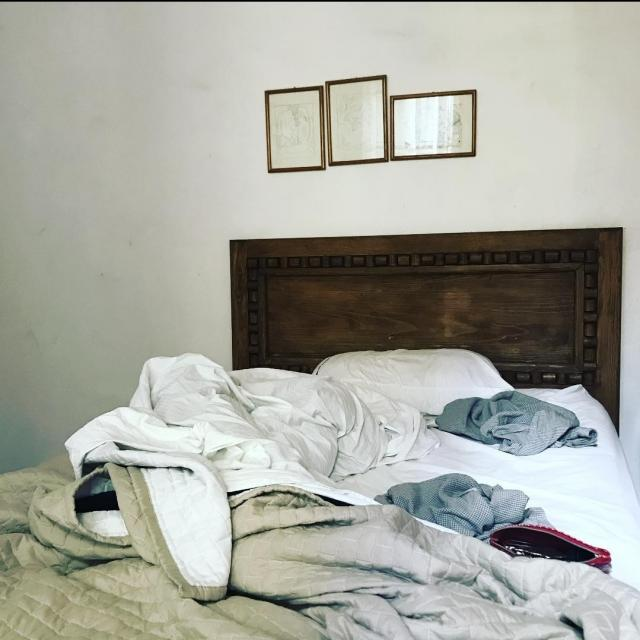bed: (0, 285, 617, 640)
